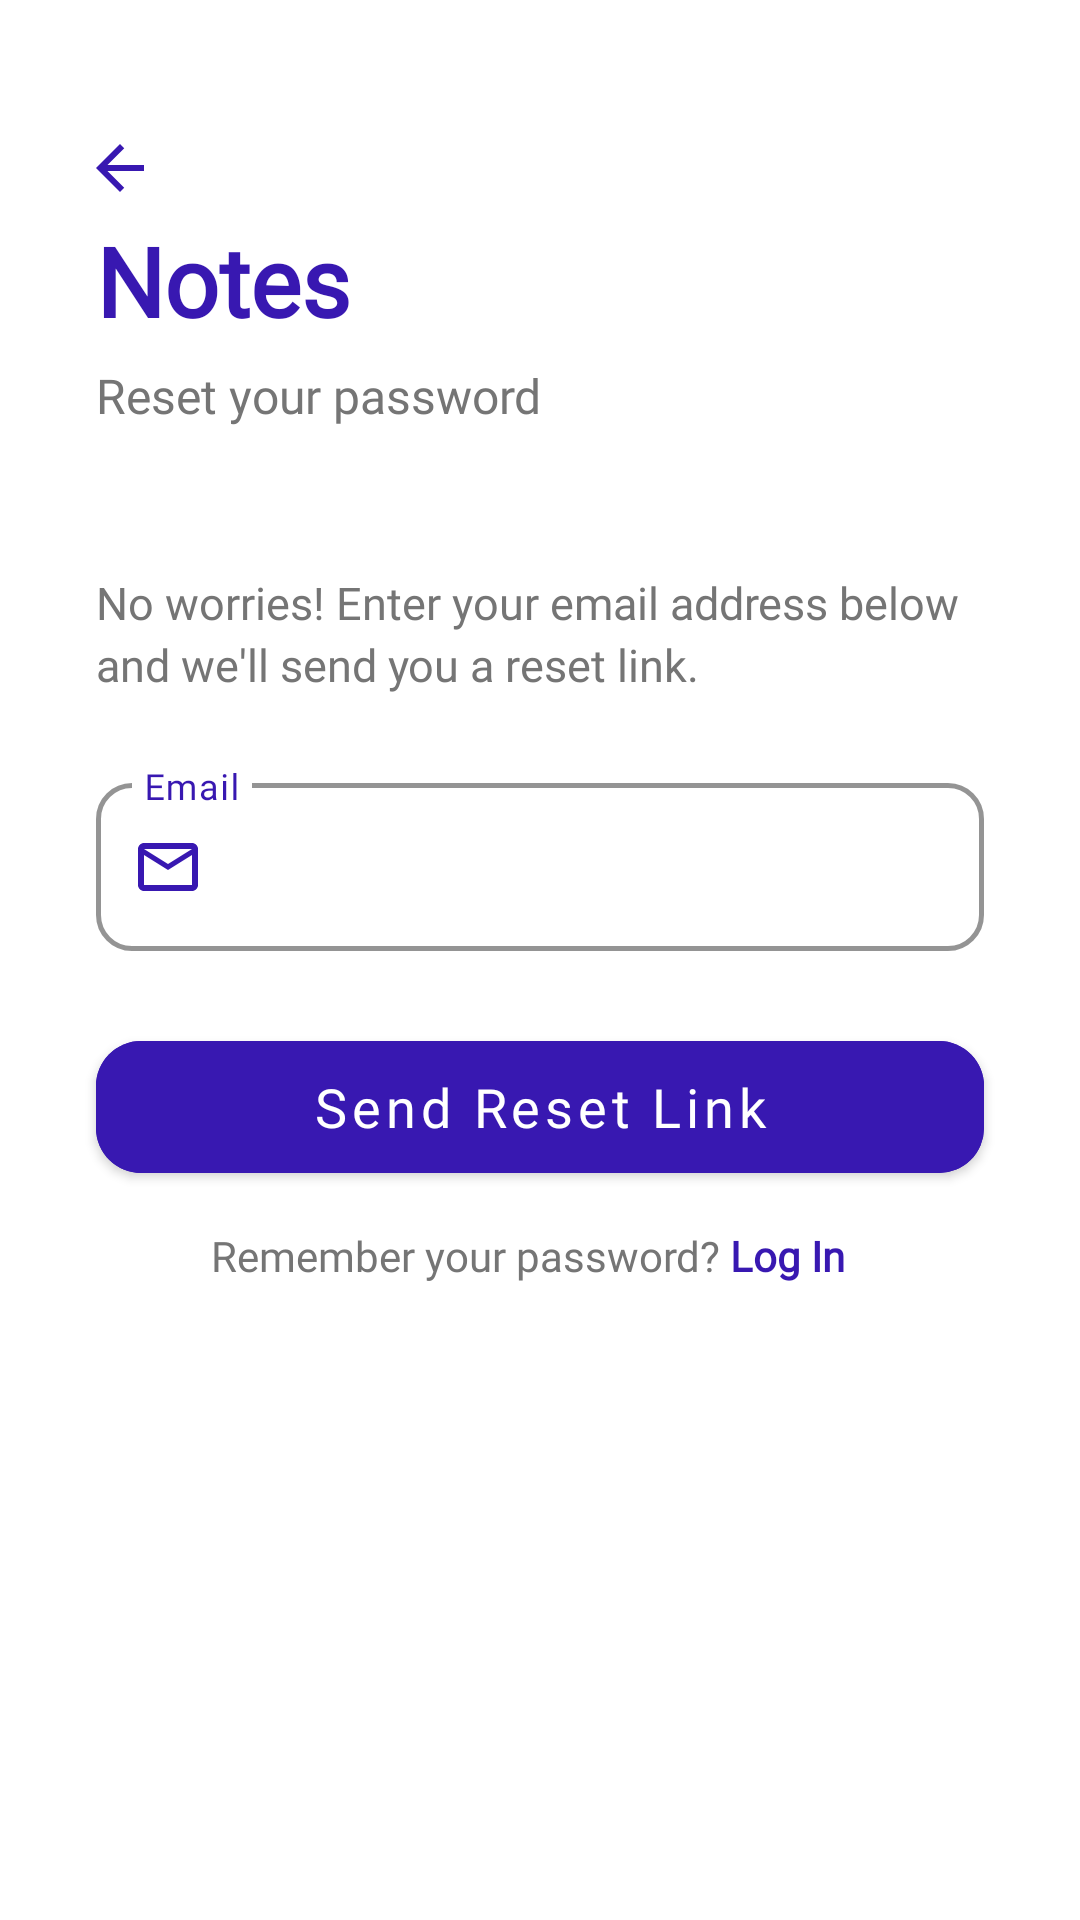

Where to tap for icons on this 1080×1920 app screen, as point (x, y):
back: point (120, 168)
